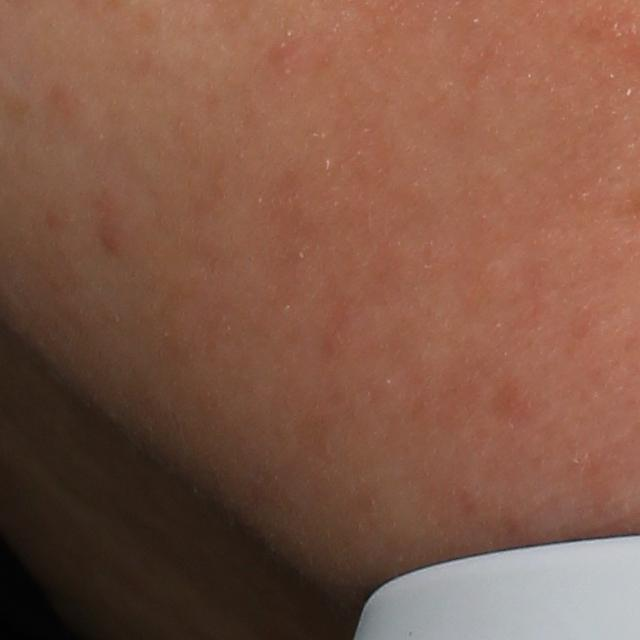papule: (98, 224, 127, 257)
